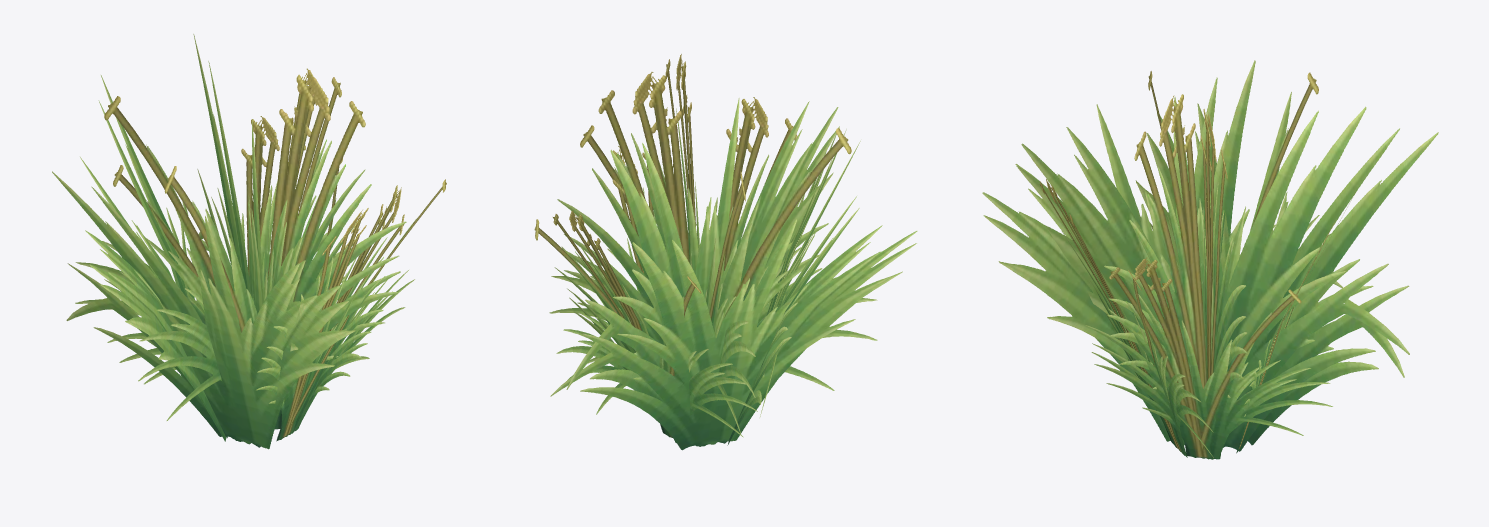
Rendered from grass_tall.glb.
The picture shows the model from 3 angles, left to right: view 1: azimuth 30°, elevation 25°; view 2: azimuth 150°, elevation 25°; view 3: azimuth 270°, elevation 25°; orthographic projection. The views are drawn at different scales.
Visible parts, largest first — view 1: grass_tall; view 2: grass_tall; view 3: grass_tall.
Boxes of the visible parts, <box> form: grass_tall: <box>52,34,446,449</box>; grass_tall: <box>534,54,917,450</box>; grass_tall: <box>982,60,1438,459</box>.
Bounding box in the file's own units: 1.67 × 1.45 × 1.81.
Materials: 1 (1 with a texture image).
